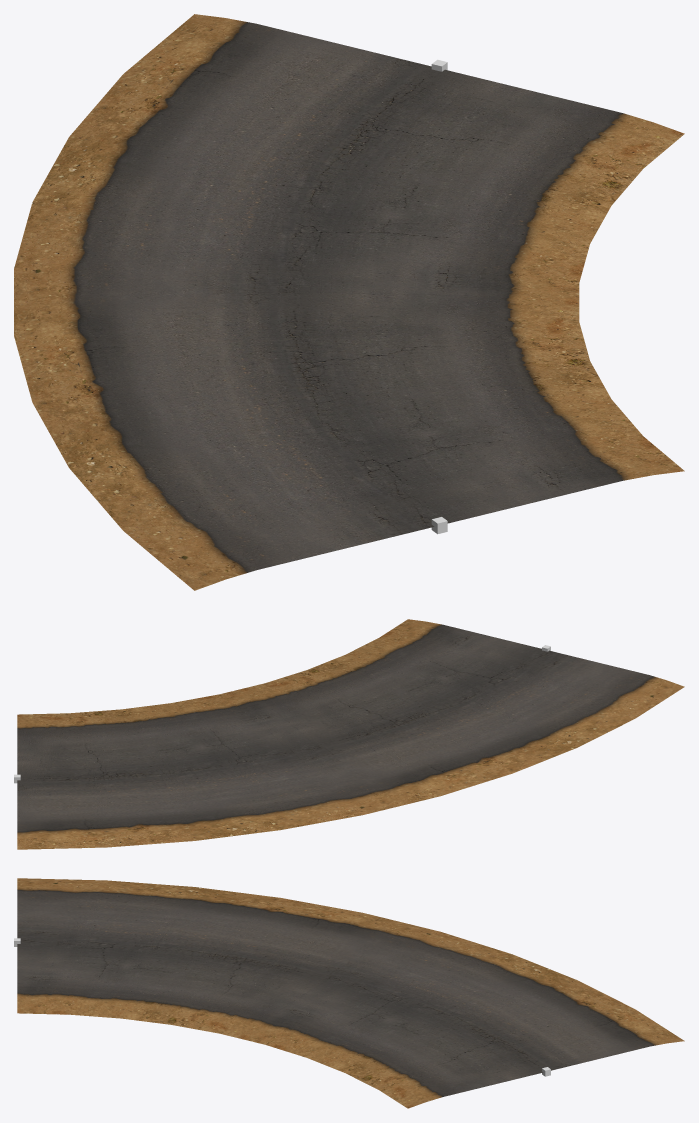
The model's file is roadBend60.R.fbx.
The picture shows the model from 3 angles, top to bottom: view 1: azimuth 30°, elevation 25°; view 2: azimuth 150°, elevation 25°; view 3: azimuth 270°, elevation 25°; orthographic projection. The views are drawn at different scales.
Visible parts, largest first — view 1: MESH roadBend60.R; view 2: MESH roadBend60.R; view 3: MESH roadBend60.R.
Boxes of the visible parts, x1=… form: MESH roadBend60.R: x1=14, y1=14, x2=684, y2=590; MESH roadBend60.R: x1=17, y1=619, x2=684, y2=849; MESH roadBend60.R: x1=17, y1=878, x2=684, y2=1108.
Size of what is drawn, in the model's own units: 4092 by 50.77 by 5034.
